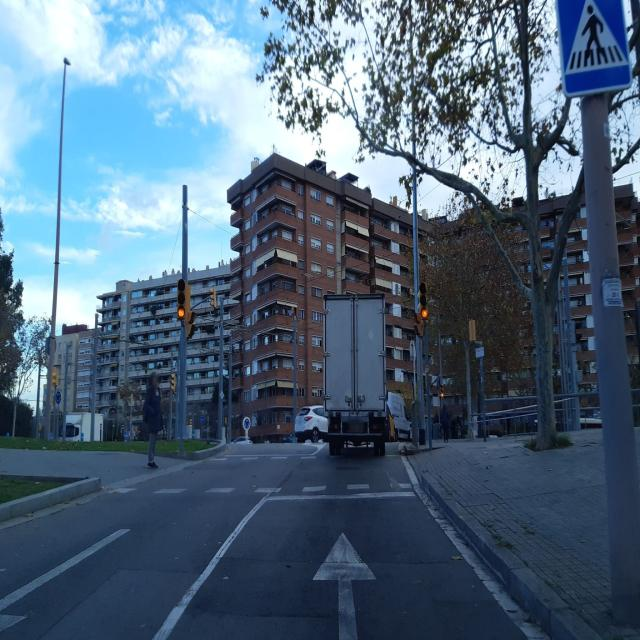car: (294, 405, 329, 443)
